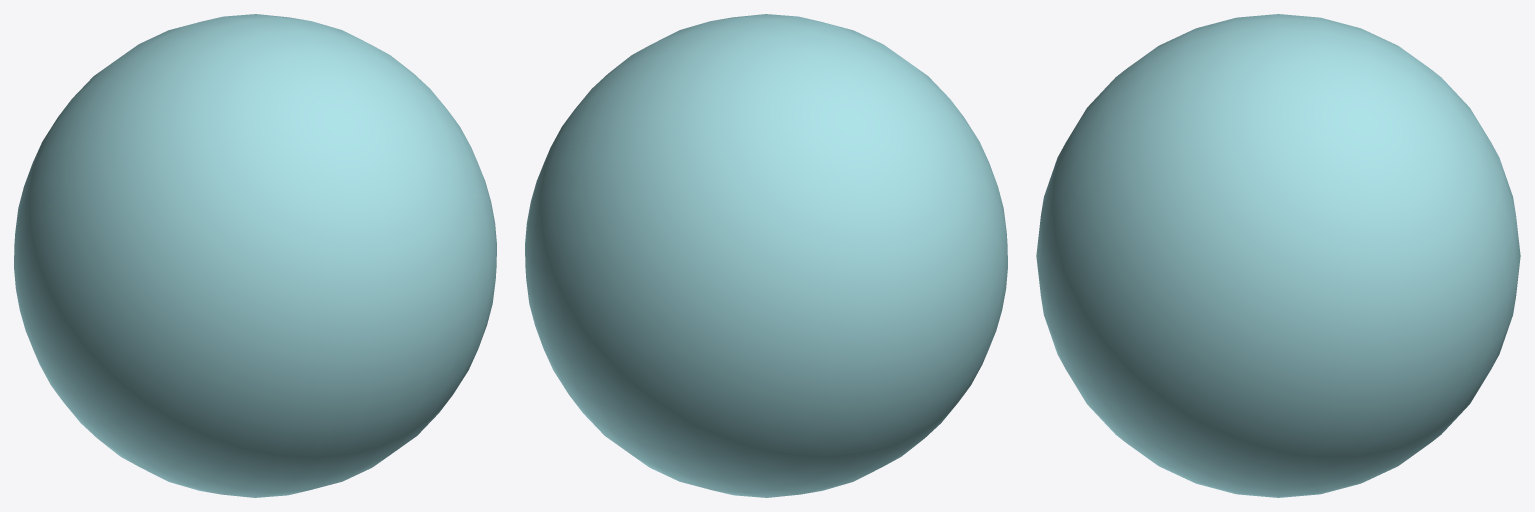
File: uranus.glb
3 renders of one model, left to right at view 1: azimuth 30°, elevation 25°; view 2: azimuth 150°, elevation 25°; view 3: azimuth 270°, elevation 25°, orthographic.
Parts seen in each view (by area): view 1: uranus; view 2: uranus; view 3: uranus.
Part boxes in pixels (x1,y1,x2,y2): uranus: [14, 14, 496, 497]; uranus: [525, 14, 1007, 497]; uranus: [1036, 14, 1520, 497].
Size of the model in its own units: 1.99 by 1.99 by 2.
